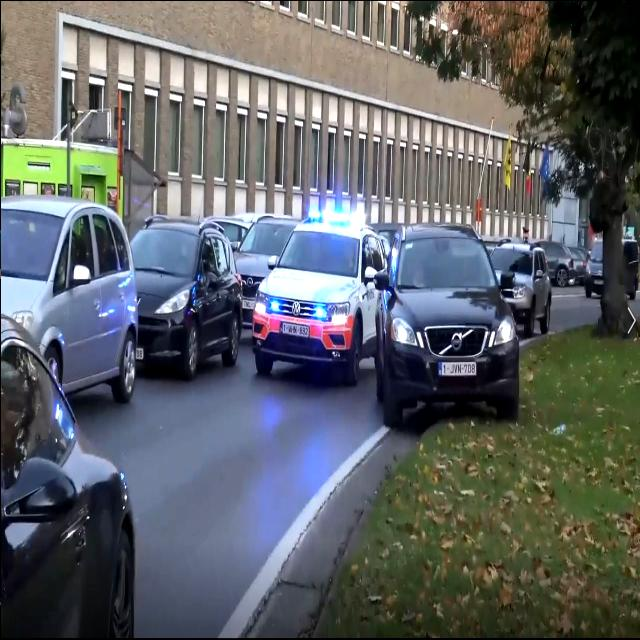emergency: (249, 204, 389, 396)
